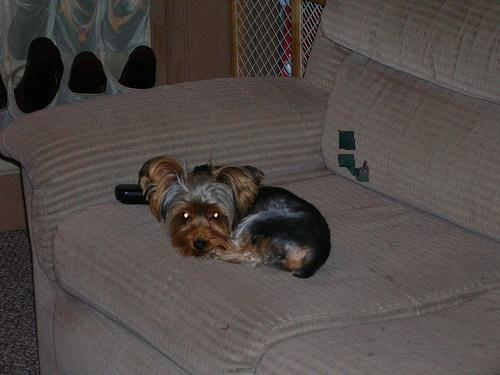tampered: (339, 131, 369, 182)
